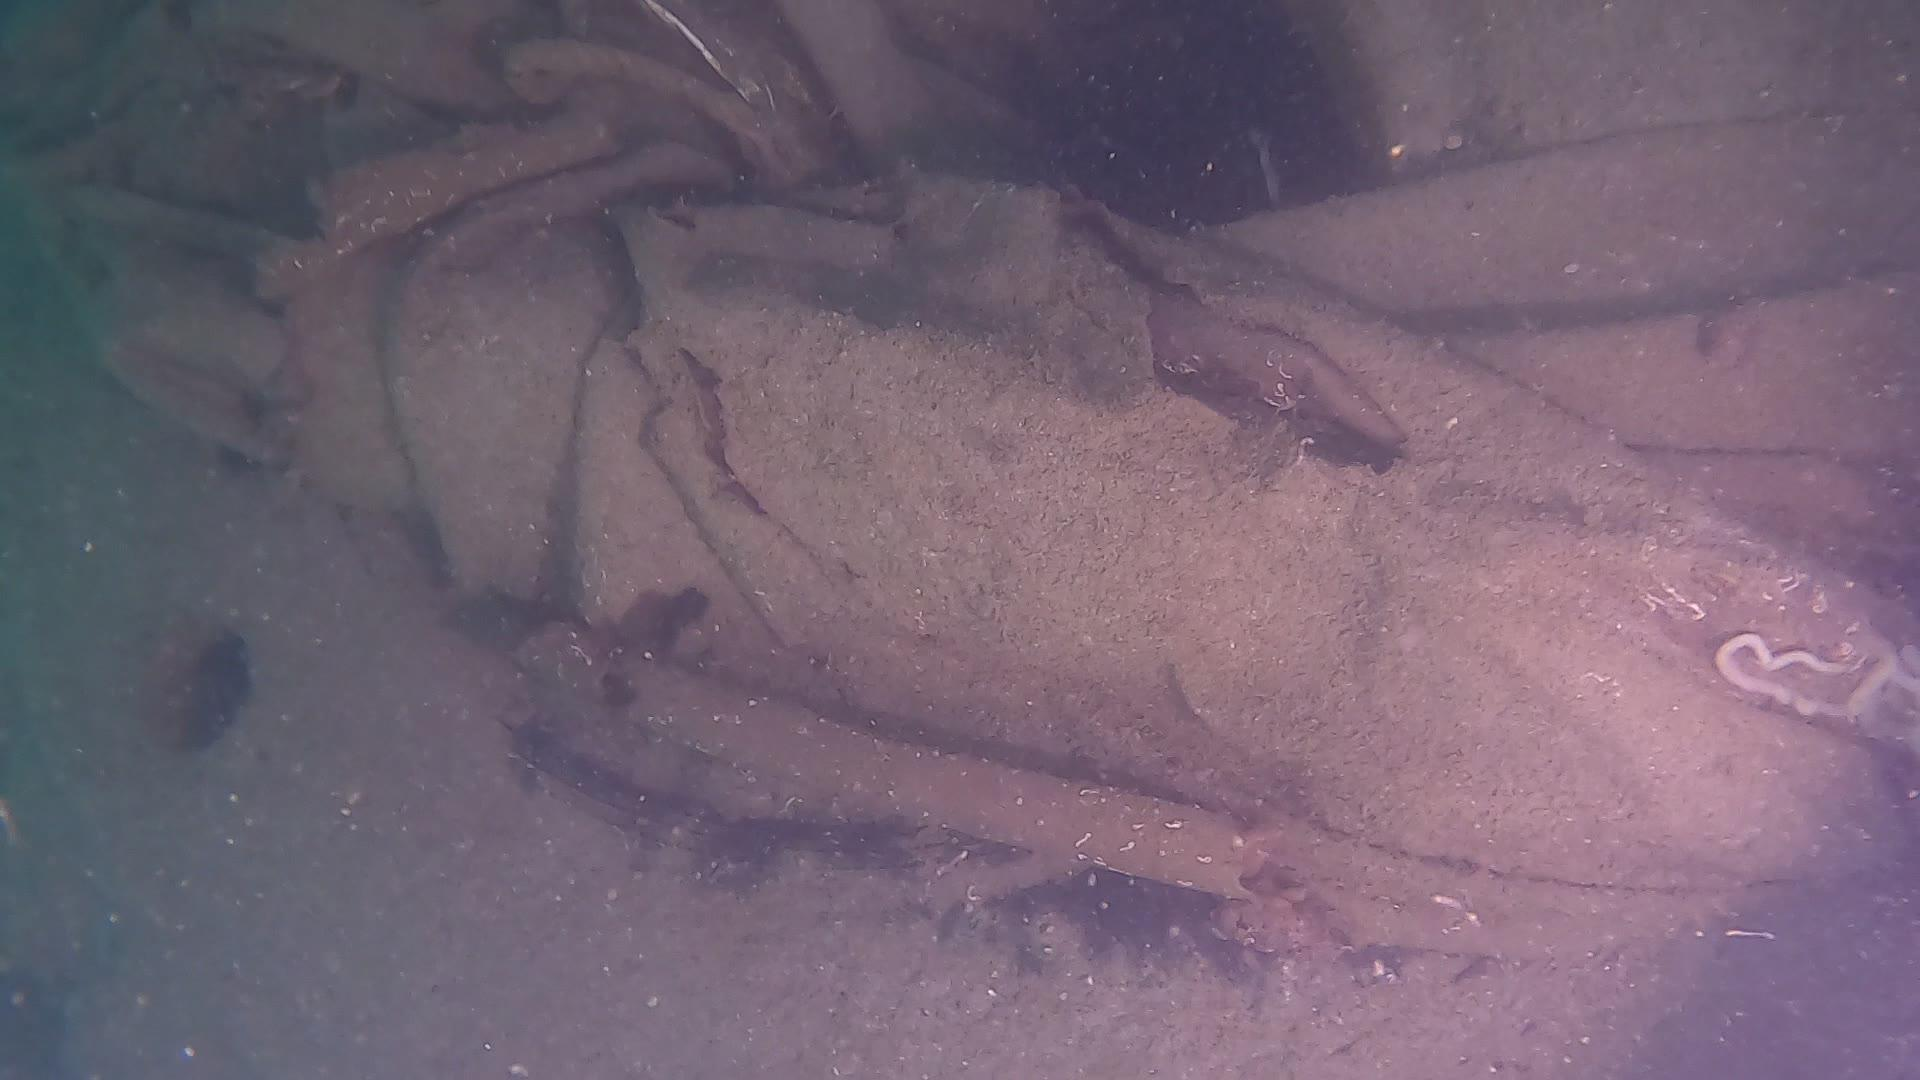rope: (501, 37, 760, 132)
